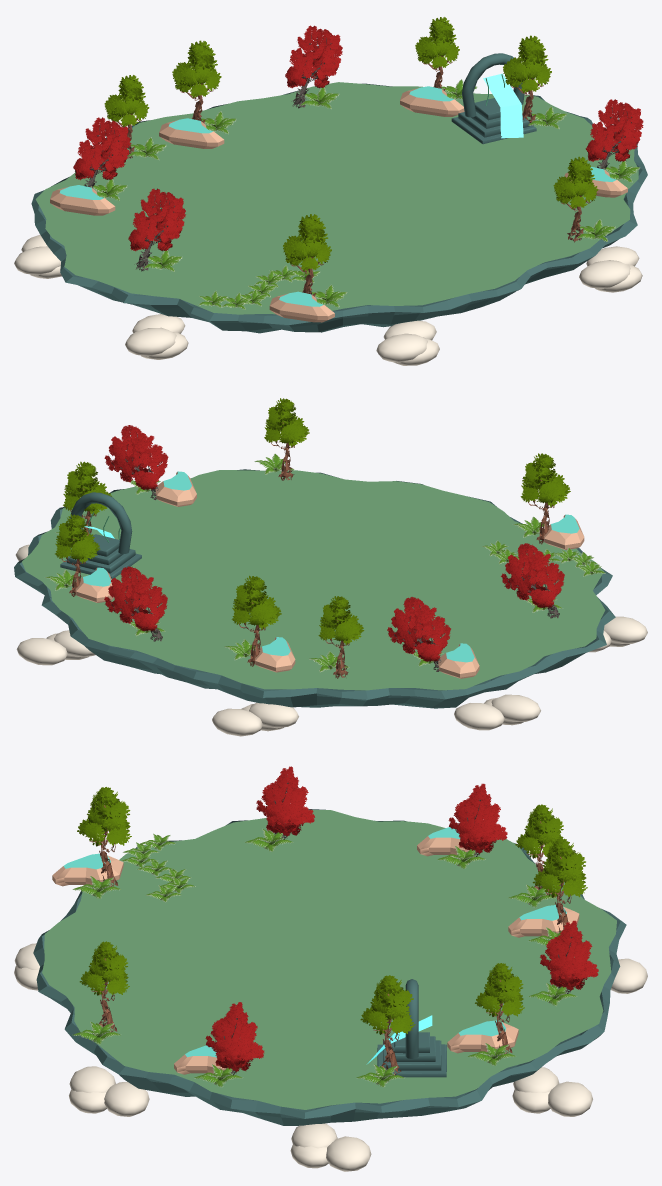
File: jungle.glb
3 renders of one model, top to bottom at view 1: azimuth 30°, elevation 25°; view 2: azimuth 150°, elevation 25°; view 3: azimuth 270°, elevation 25°, orthographic. The views are drawn at different scales.
Visible parts, largest first — view 1: Surface_jungle.001, Scenery_jungle.001, Water_jungle.001; view 2: Surface_jungle.001, Scenery_jungle.001; view 3: Surface_jungle.001, Scenery_jungle.001.
Boxes of the visible parts, left/top/right/bottom form: Surface_jungle.001: left=31, top=82, right=647, bottom=333; Scenery_jungle.001: left=14, top=17, right=643, bottom=365; Water_jungle.001: left=483, top=73, right=523, bottom=138; Surface_jungle.001: left=14, top=469, right=615, bottom=708; Scenery_jungle.001: left=15, top=398, right=647, bottom=736; Surface_jungle.001: left=33, top=809, right=626, bottom=1125; Scenery_jungle.001: left=14, top=766, right=647, bottom=1171.
Bounding box in the file's own units: 75.01 × 19.31 × 62.58.
Materials: 12 (5 with a texture image).
